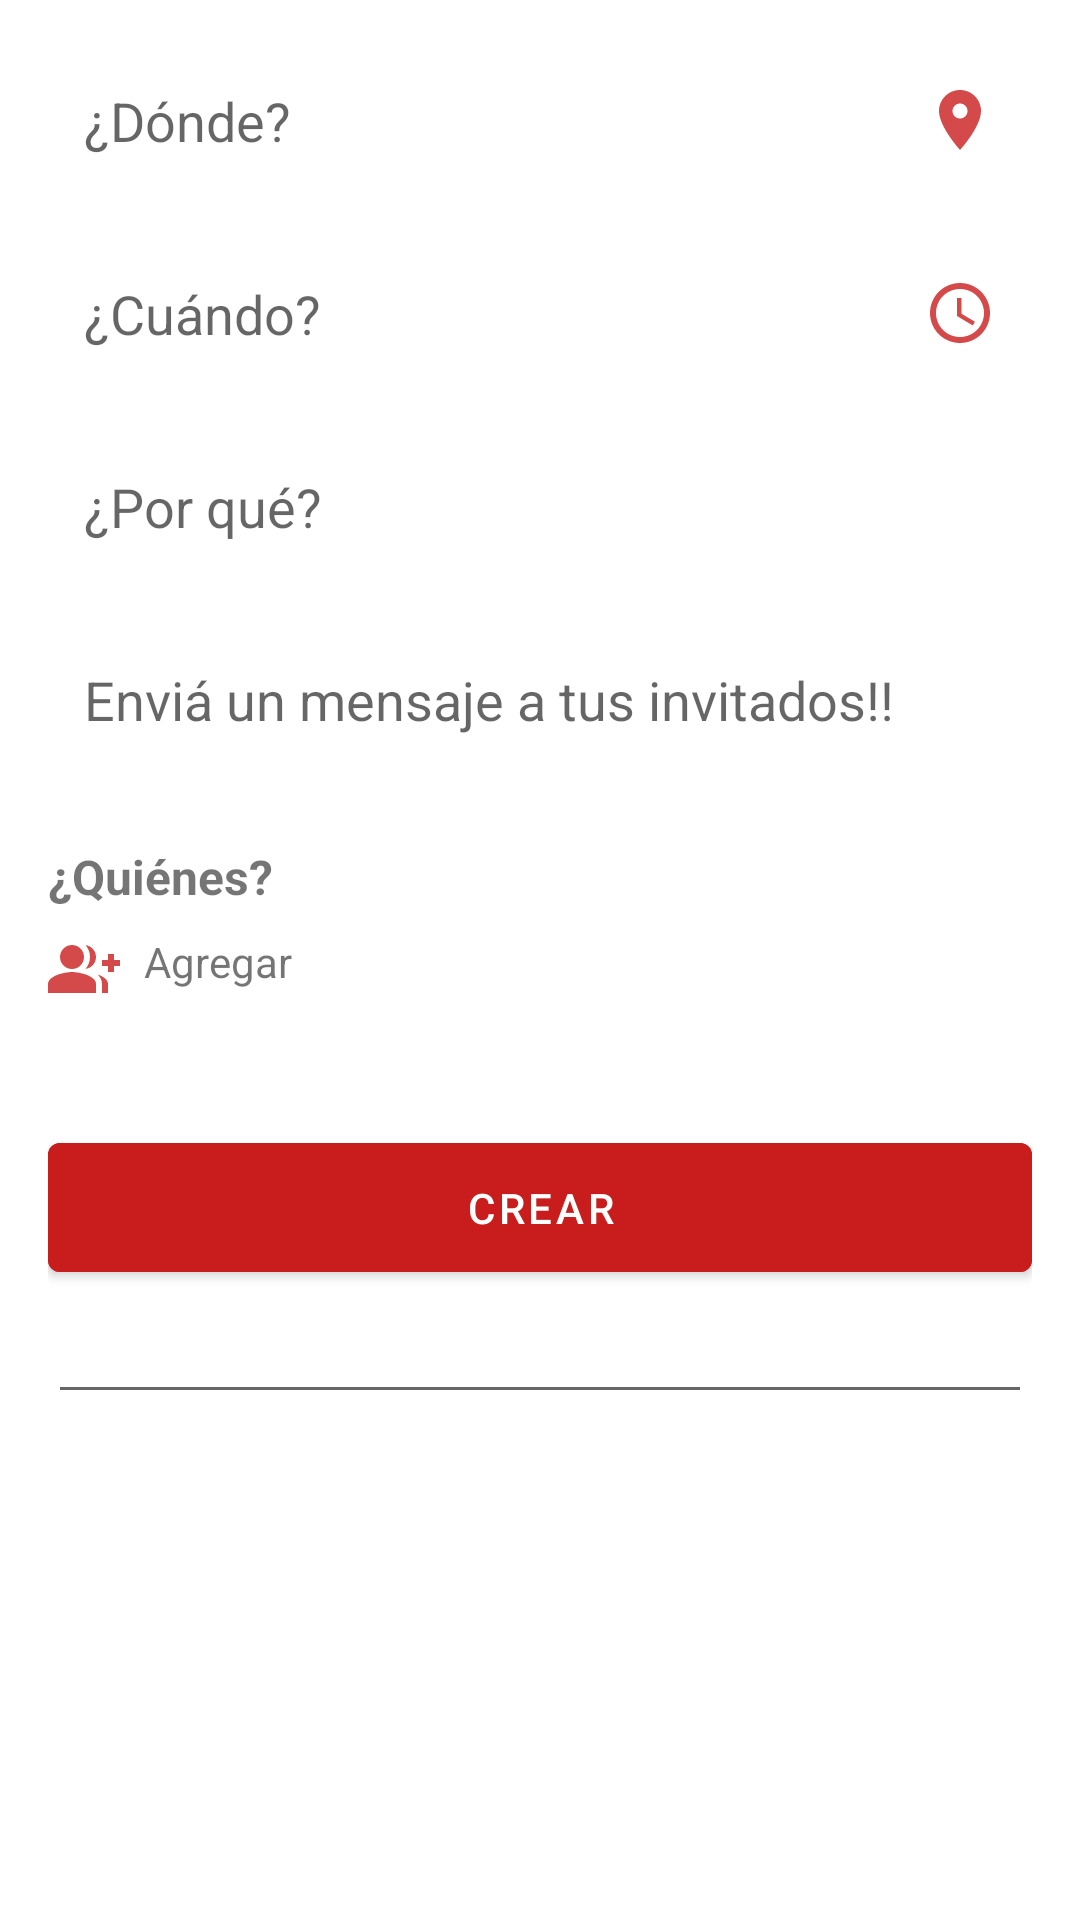

Icon click points for this 1080 × 1920 phone screenshot, format (x=x, y=y):
Add invitee: (x=84, y=969)
